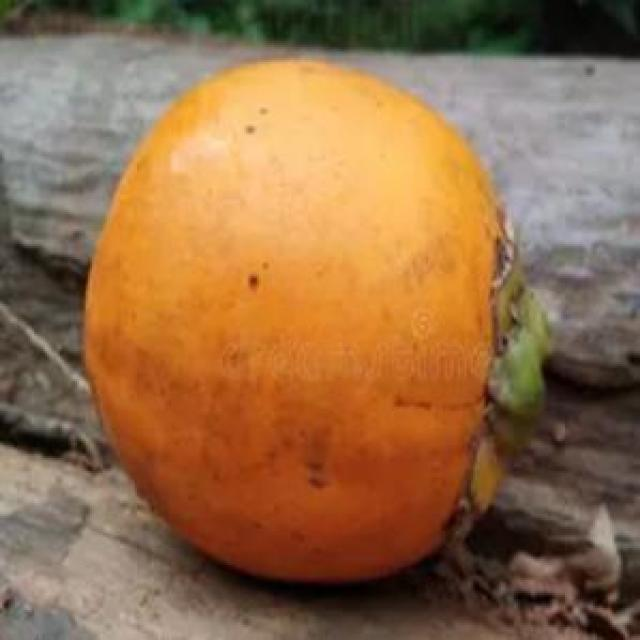good: (83, 58, 546, 591)
